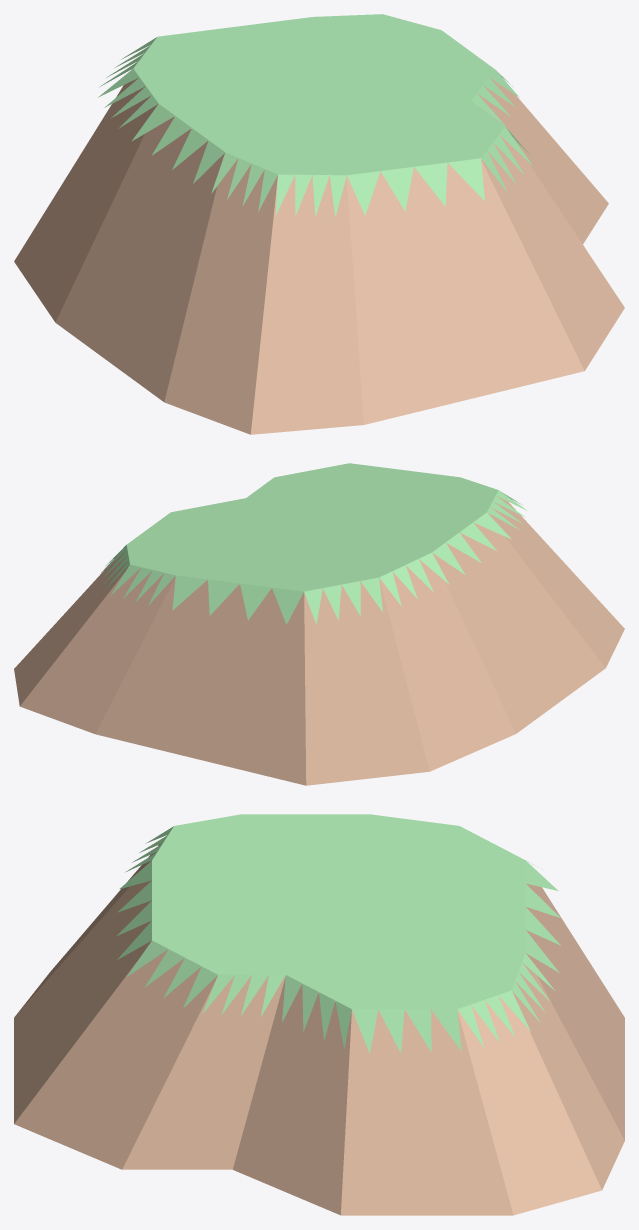
Rendered from simple_island_1.glb.
3 renders of one model, top to bottom at view 1: azimuth 30°, elevation 25°; view 2: azimuth 150°, elevation 25°; view 3: azimuth 270°, elevation 25°, orthographic. The views are drawn at different scales.
Visible parts, largest first — view 1: ND — Sketch; view 2: ND — Sketch; view 3: ND — Sketch.
Part boxes in pixels (x1,y1,x2,y2): ND — Sketch: (14,14,624,434); ND — Sketch: (14,463,624,785); ND — Sketch: (14,814,624,1215).
Size of what is drawn, in the model's own units: 16.98 by 5.88 by 16.96.
